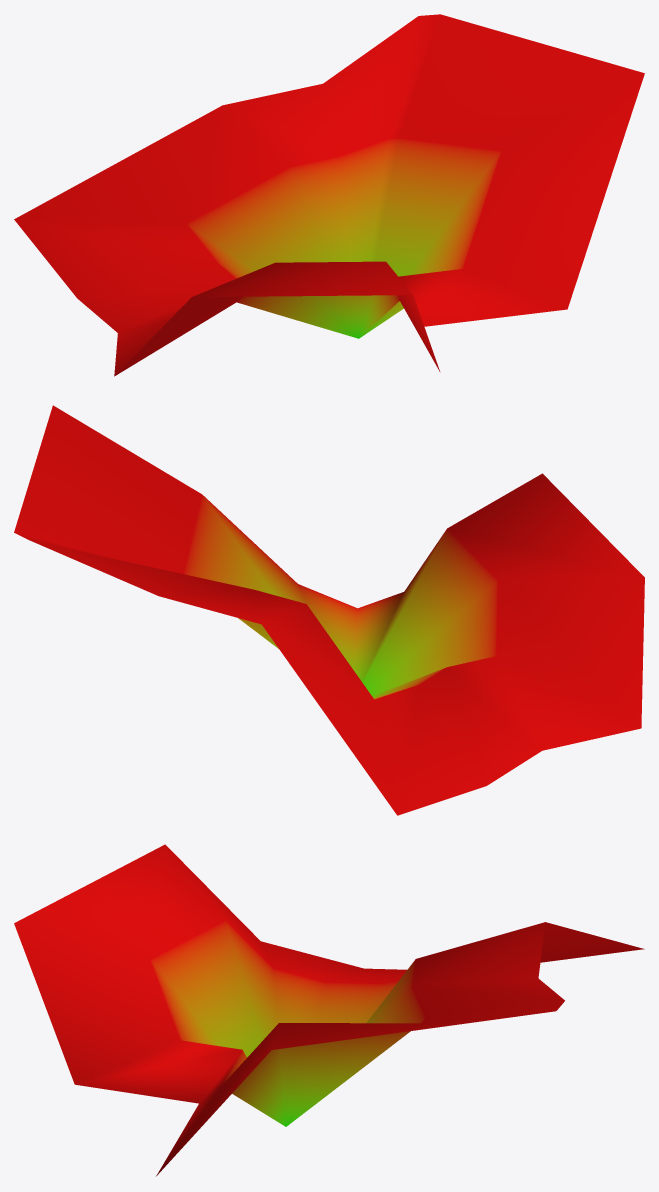
The model's file is Lady Fern_LOD6_Var6_wdvlditia.fbx.
3 views of the same model, one above another, from view 1: azimuth 30°, elevation 25°; view 2: azimuth 150°, elevation 25°; view 3: azimuth 270°, elevation 25° (orthographic). The views are drawn at different scales.
Parts seen in each view (by area): view 1: _kqsa_Var6_LOD6; view 2: _kqsa_Var6_LOD6; view 3: _kqsa_Var6_LOD6.
Part boxes in pixels (x1,y1,x2,y2): _kqsa_Var6_LOD6: (14,14,644,376); _kqsa_Var6_LOD6: (14,405,644,815); _kqsa_Var6_LOD6: (14,844,644,1176).
Size of the model in its own units: 81.92 by 29.49 by 70.57.
